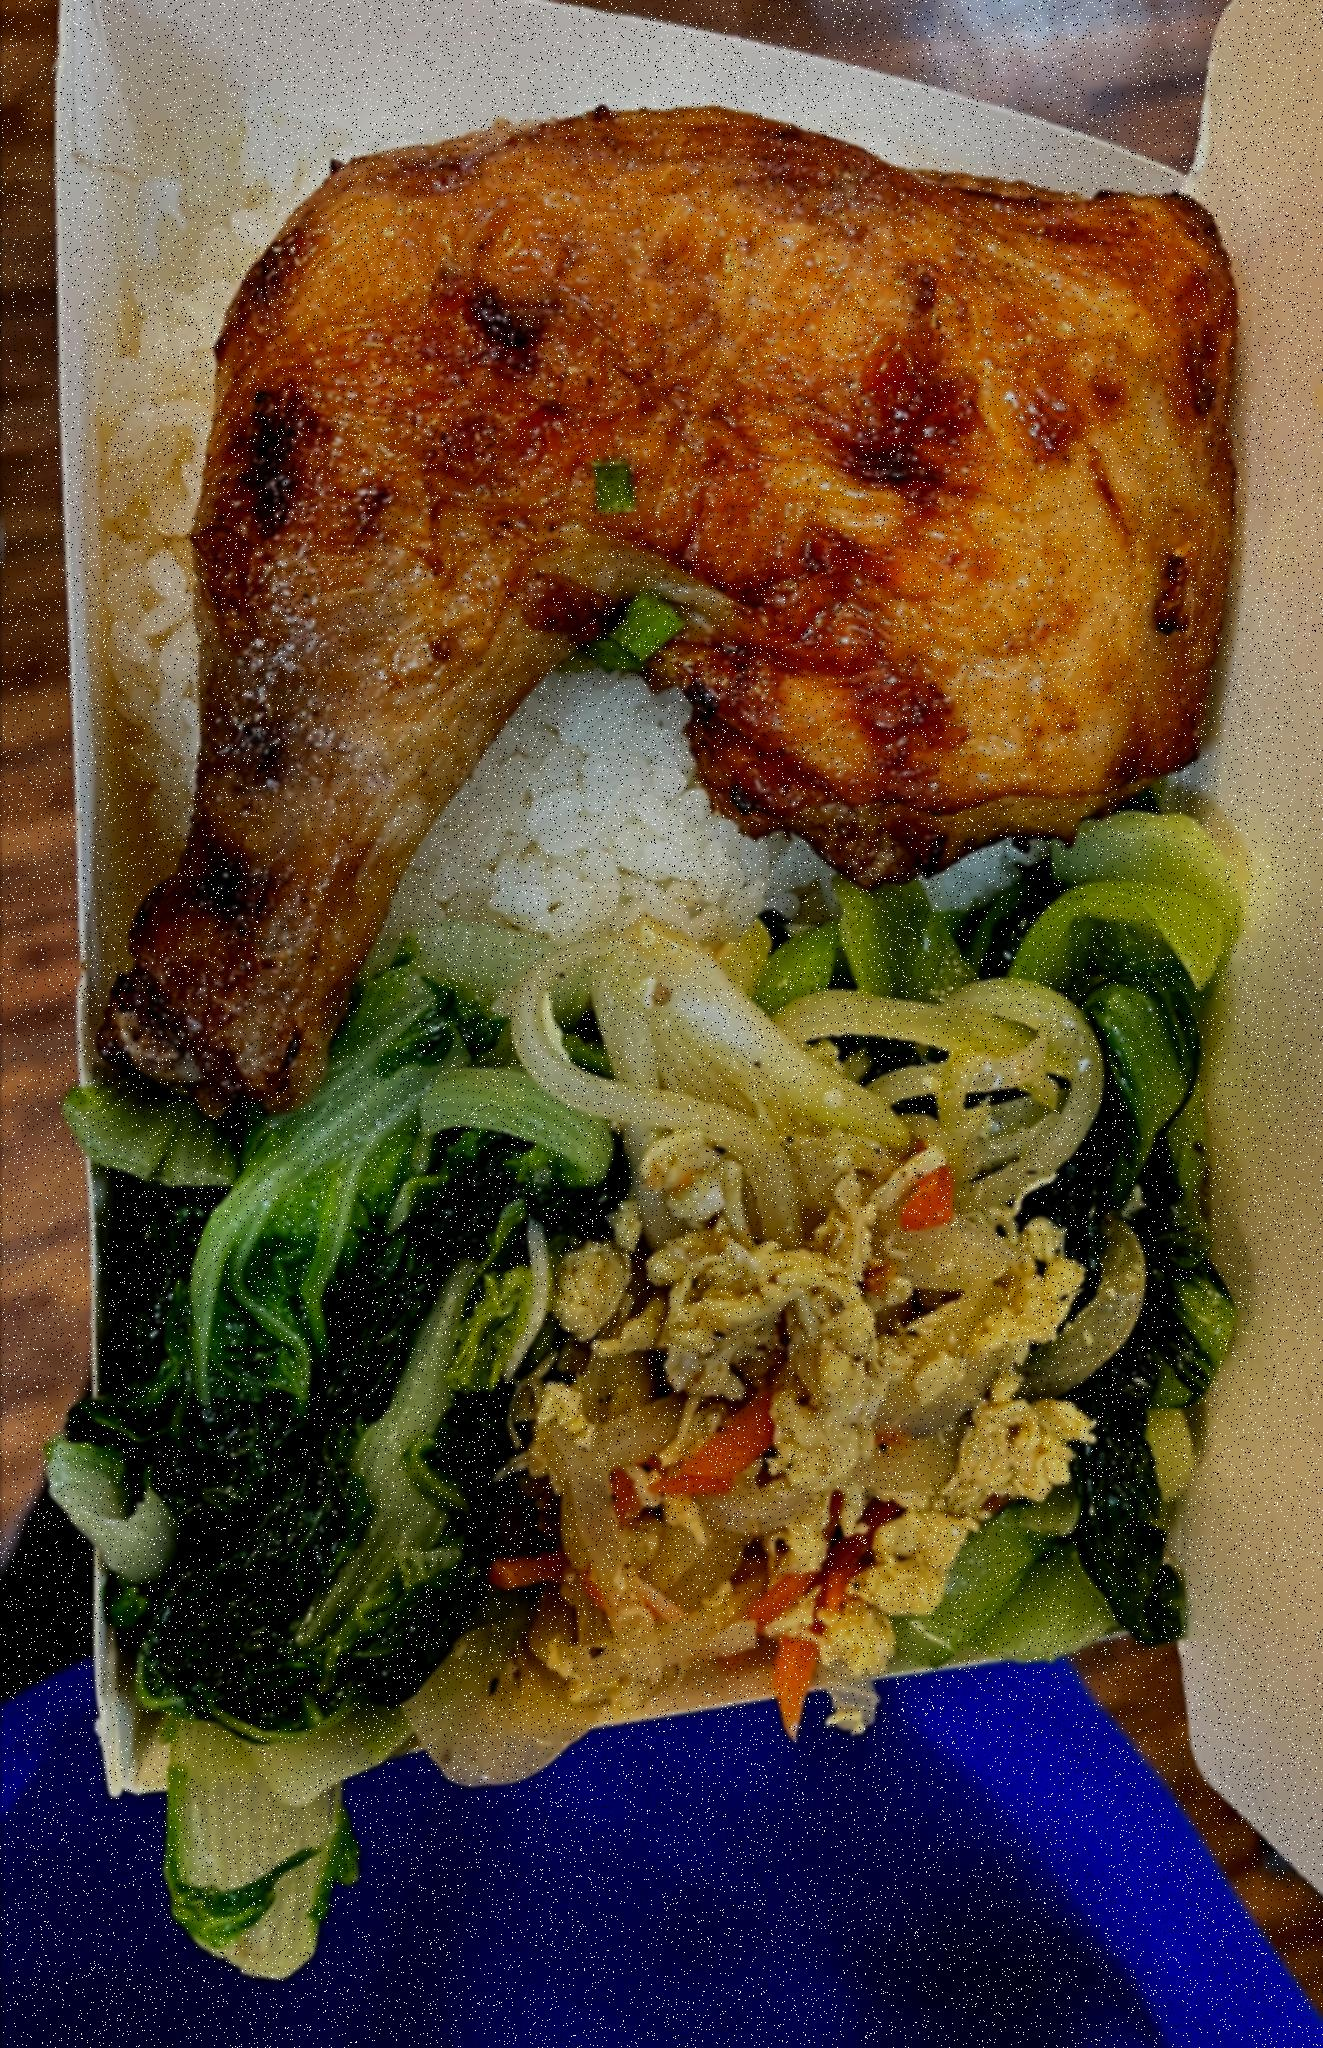big grilled chicken leg: (102, 100, 1271, 1114)
box: (18, 0, 1289, 1823)
side dish: (105, 993, 590, 1755), (567, 1003, 1108, 1679), (808, 881, 1239, 1679)
white rice: (140, 96, 1168, 972)
